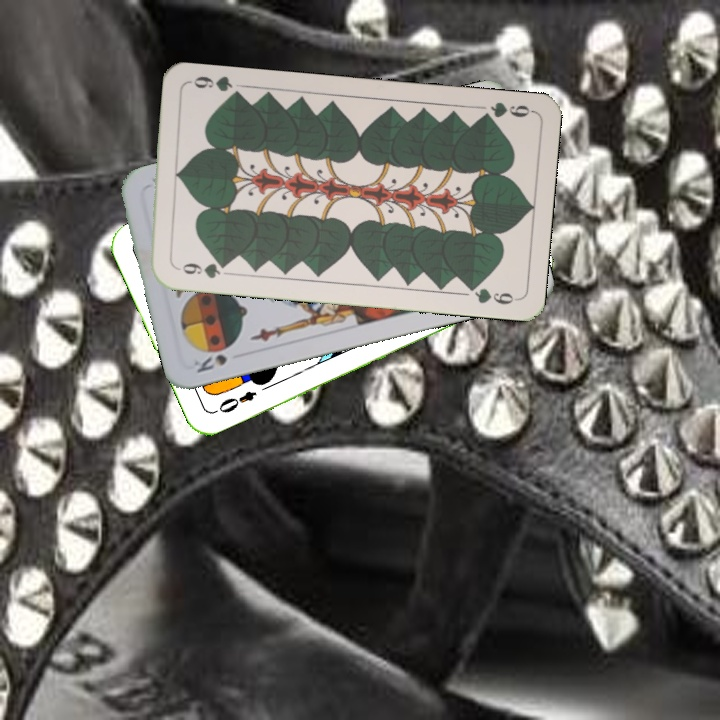EO: (210, 386, 259, 416)
G9: (475, 98, 535, 123), (171, 258, 231, 281)
SK: (189, 350, 230, 376)
